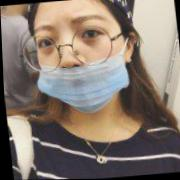WRONG: (32, 1, 132, 117)
